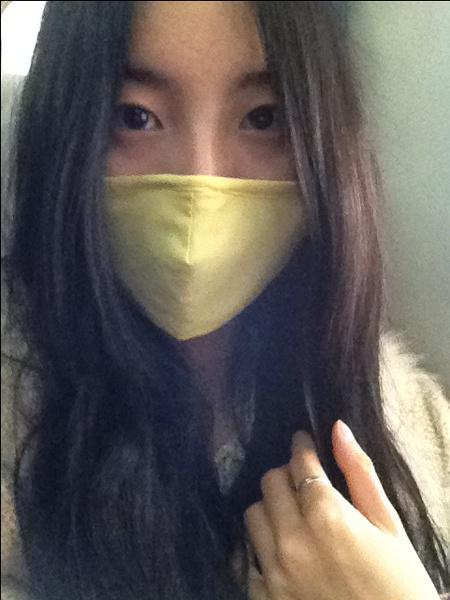WRONG: (77, 57, 358, 338)
